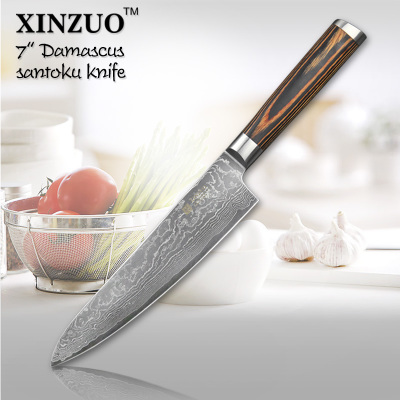knief: (47, 19, 372, 366)
